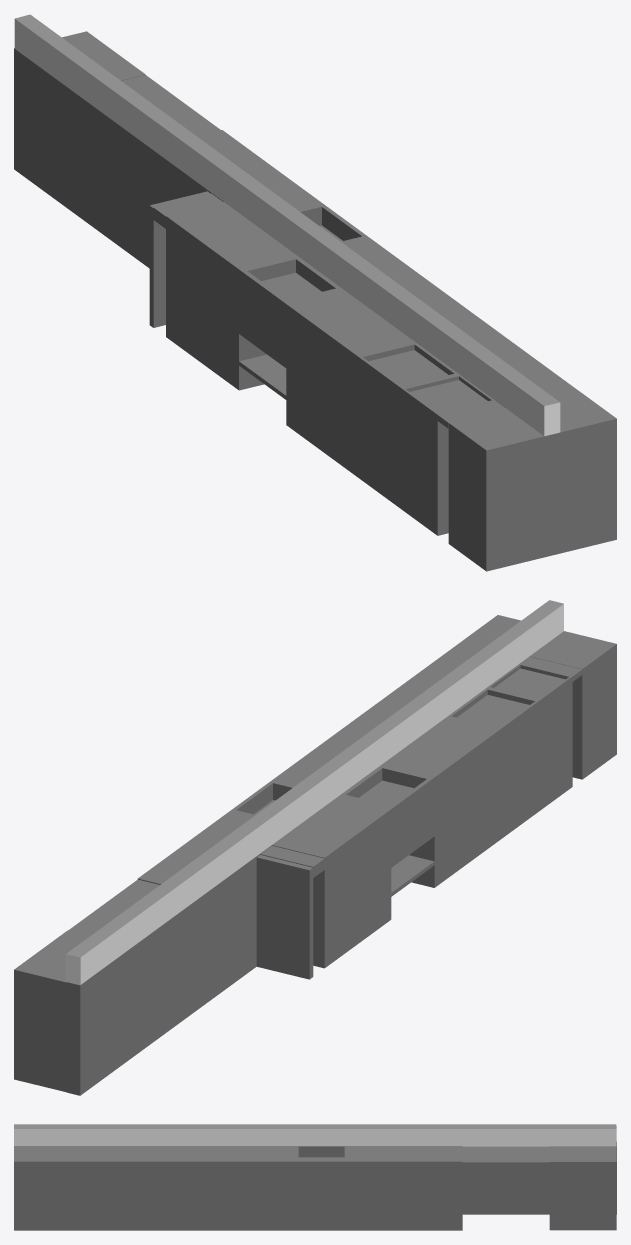
File: cook_table.fbx
3 views of the same model, one above another, from view 1: azimuth 30°, elevation 25°; view 2: azimuth 150°, elevation 25°; view 3: azimuth 270°, elevation 25° (orthographic). The views are drawn at different scales.
Visible parts, largest first — view 1: Cube, Cube.001; view 2: Cube, Cube.001; view 3: Cube, Cube.001.
Part boxes in pixels (x1,y1,x2,y2): Cube: (14, 31, 616, 571); Cube.001: (14, 14, 560, 436); Cube: (14, 615, 616, 1095); Cube.001: (65, 600, 563, 985); Cube: (14, 1142, 616, 1230); Cube.001: (14, 1124, 616, 1146).
Size of the model in its own units: 226 by 250 by 1588.
